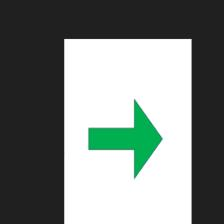right: (85, 92, 166, 184)
